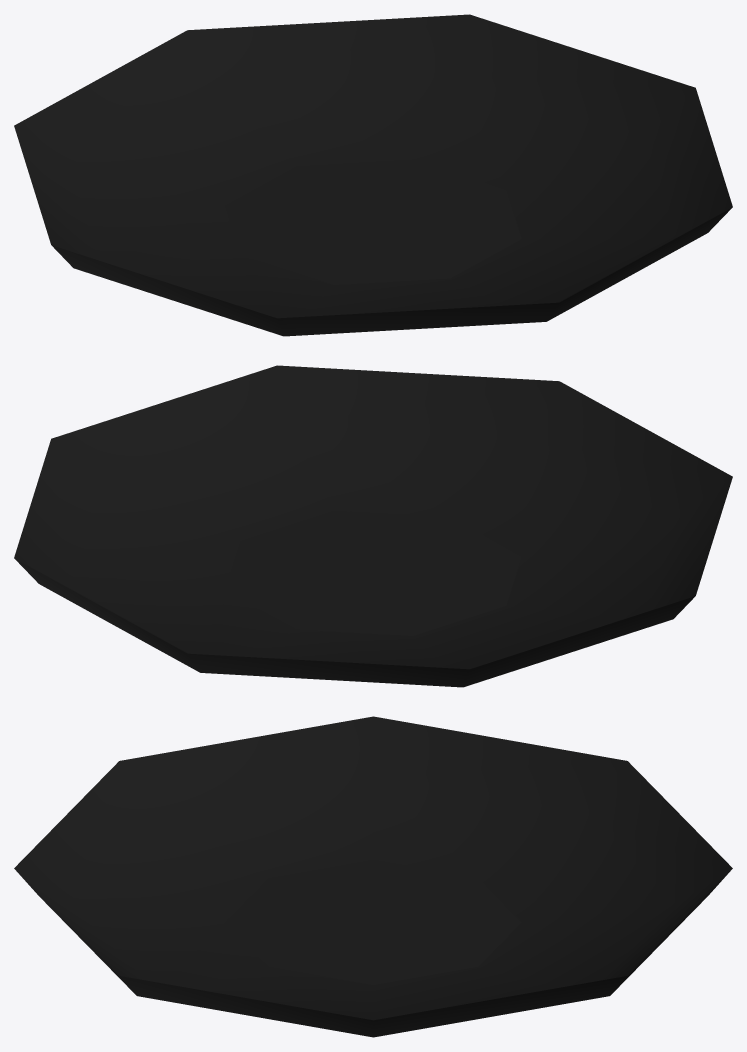
File: Plate_C.FBX
The picture shows the model from 3 angles, top to bottom: view 1: azimuth 30°, elevation 25°; view 2: azimuth 150°, elevation 25°; view 3: azimuth 270°, elevation 25°; orthographic projection. The views are drawn at different scales.
Visible parts, largest first — view 1: Bowl; view 2: Bowl; view 3: Bowl.
Part boxes in pixels (left/top/right/bottom): Bowl: left=14, top=14, right=732, bottom=336; Bowl: left=14, top=365, right=732, bottom=687; Bowl: left=14, top=716, right=732, bottom=1037.
Bounding box in the file's own units: 70.43 × 6.32 × 70.43.
